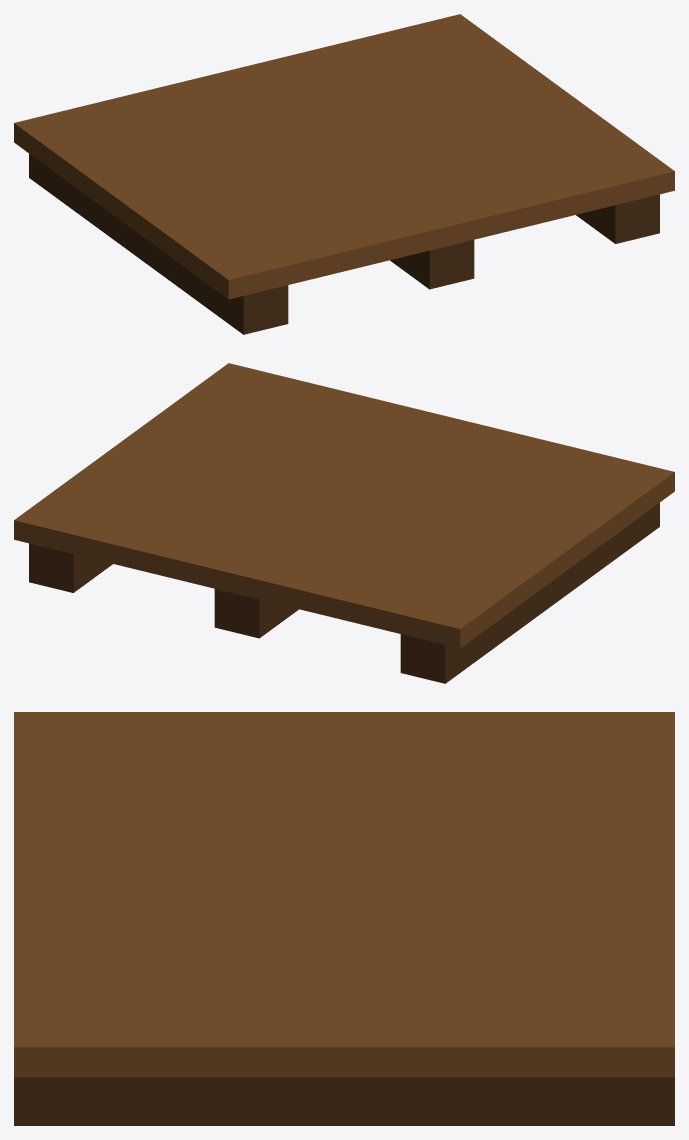
File: pallet.glb
3 renders of one model, top to bottom at view 1: azimuth 30°, elevation 25°; view 2: azimuth 150°, elevation 25°; view 3: azimuth 270°, elevation 25°, orthographic. The views are drawn at different scales.
Visible parts, largest first — view 1: model; view 2: model; view 3: model.
Part boxes in pixels (x1=…): model: x1=14, y1=14, x2=674, y2=334; model: x1=14, y1=363, x2=674, y2=683; model: x1=14, y1=712, x2=674, y2=1125.
Size of the model in its own units: 1.2 by 0.15 by 1.
